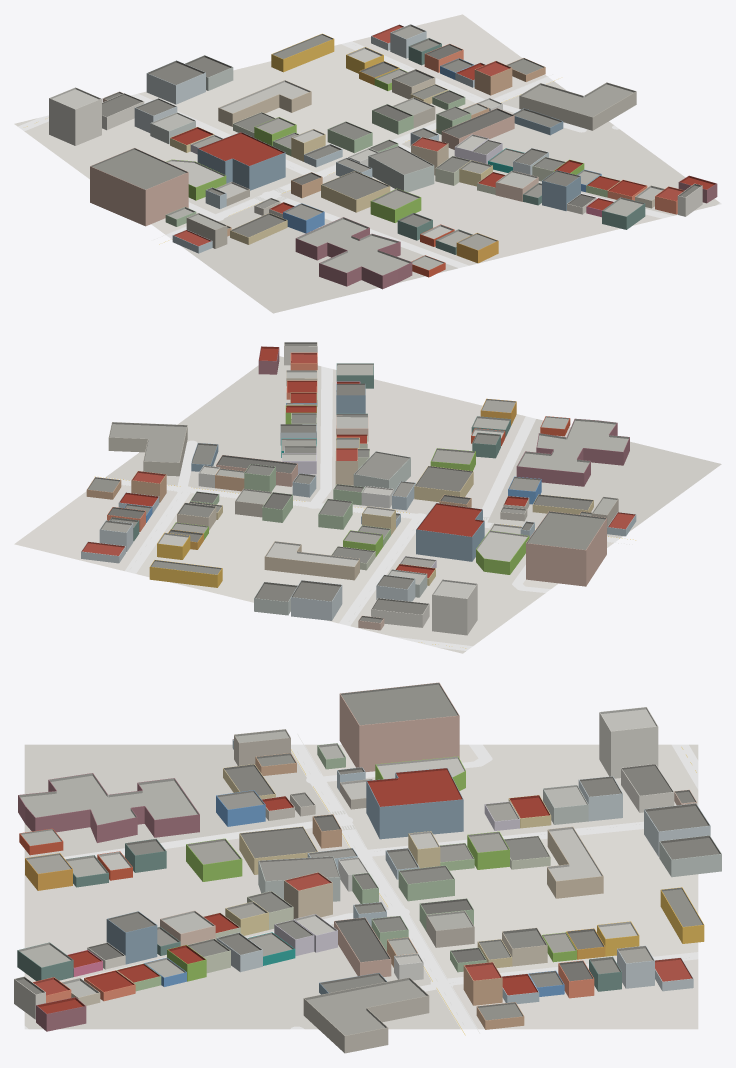
The picture shows the model from 3 angles, top to bottom: view 1: azimuth 30°, elevation 25°; view 2: azimuth 150°, elevation 25°; view 3: azimuth 270°, elevation 25°; orthographic projection. The views are drawn at different scales.
Visible parts, largest first — view 1: ground, walls, roofs, asphalt; view 2: ground, roofs, walls, asphalt; view 3: ground, roofs, walls, asphalt, markings.
Boxes of the visible parts, <box> form: ground: <box>14,14,719,313</box>; walls: <box>49,31,717,289</box>; roofs: <box>49,24,716,275</box>; asphalt: <box>18,41,721,268</box>; ground: <box>14,356,721,653</box>; roofs: <box>81,342,635,623</box>; walls: <box>81,346,636,635</box>; asphalt: <box>105,366,620,650</box>; ground: <box>24,744,698,1029</box>; roofs: <box>14,682,721,1035</box>; walls: <box>14,694,721,1053</box>; asphalt: <box>24,744,698,1029</box>; markings: <box>291,734,696,1035</box>.
Size of what is drawn, in the model's own units: 284 by 19.44 by 263.
